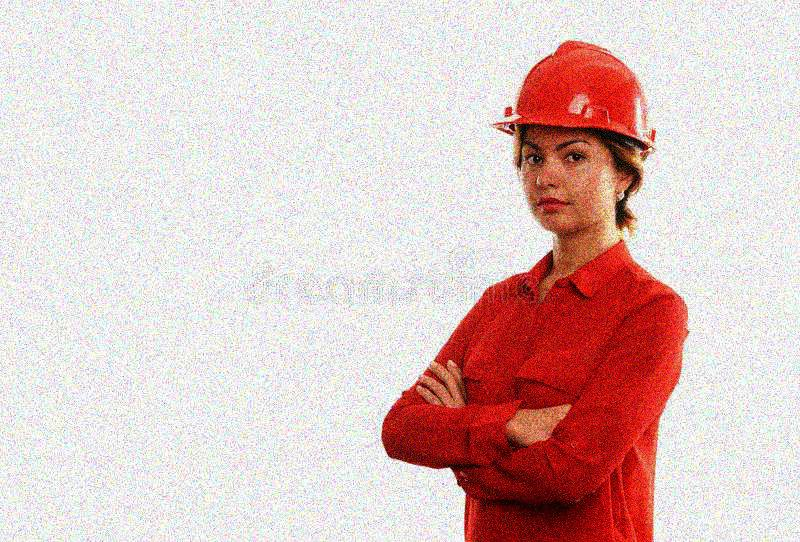helmet: (486, 37, 659, 231)
